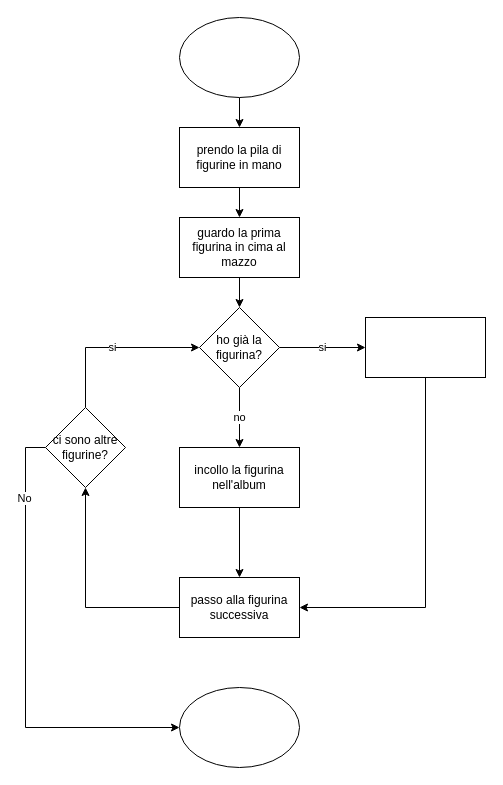
This 503x785 diagram has some shape labels left out. Here are the shapes that lost their labels. From the top down, the box of each, then its label:
(178, 16, 300, 98): inizio, apro pacchetto nuovo
(364, 316, 486, 378): la metto nel mazzo dei doppioni
(178, 686, 300, 768): Stop, aspetto sabato per scambiare i doppioni
